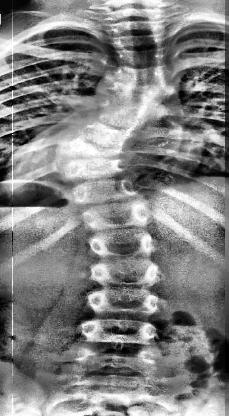Vertebrae: (72, 345, 162, 379), (87, 283, 161, 317), (80, 315, 158, 347), (85, 226, 155, 260), (80, 201, 154, 233), (87, 258, 162, 288), (66, 115, 134, 147), (57, 152, 128, 182), (54, 136, 126, 164), (71, 178, 137, 206), (93, 100, 158, 128), (105, 83, 168, 111), (112, 64, 166, 90), (112, 46, 170, 69), (108, 32, 172, 48)
